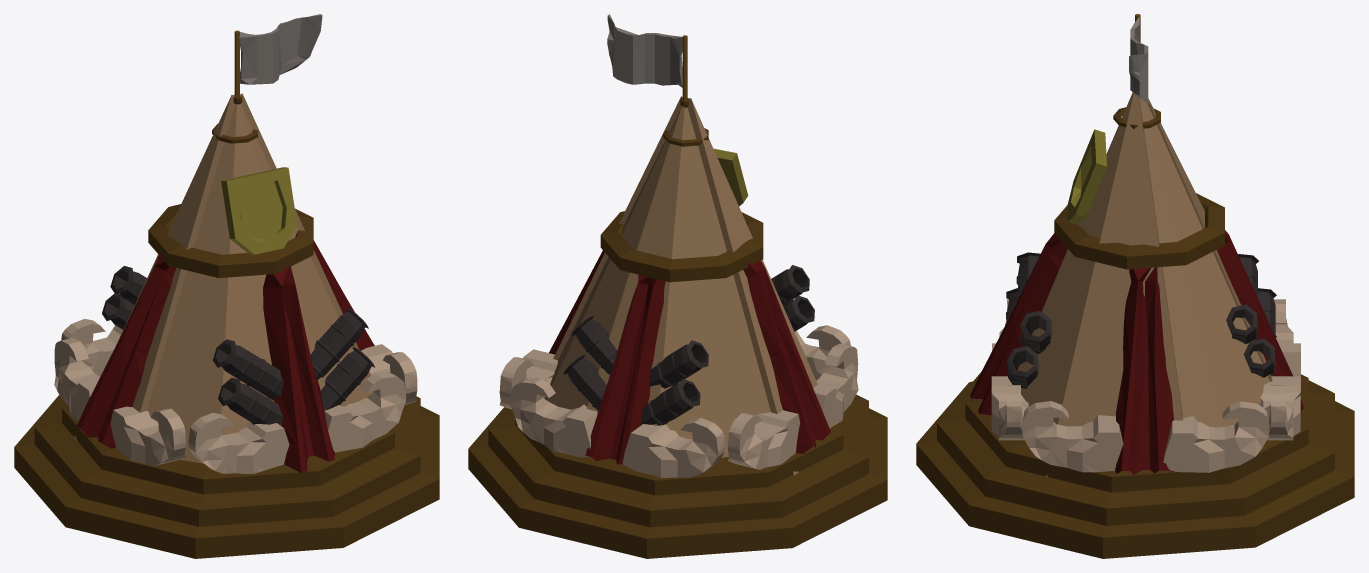
File: totem_español.fbx
3 renders of one model, left to right at view 1: azimuth 30°, elevation 25°; view 2: azimuth 150°, elevation 25°; view 3: azimuth 270°, elevation 25°, orthographic. The views are drawn at different scales.
Visible parts, largest first — view 1: base_espa, escalon_7, escalon_2, tela, escalon_3, tela2, escudo, escalon_4, cosito1, cosito, bandera, cosito7 (+10 smaller); view 2: base_espa, escalon_7, escalon_2, tela1, escalon_3, tela2, escalon_4, cosito2, cosito3, bandera, cosito6, cosito7 (+10 smaller); view 3: base_espa, escalon_7, escalon_2, tela3, escalon_3, cosito5, cosito4, escalon_4, tela, cosito3, tela1, escudo (+8 smaller).
Boxes of the visible parts, x1,y1,x2,y2 form: base_espa: [73, 93, 395, 463]; escalon_7: [14, 395, 439, 558]; escalon_2: [34, 396, 420, 526]; tela: [263, 265, 334, 473]; escalon_3: [62, 403, 394, 494]; tela2: [77, 253, 176, 448]; escudo: [221, 167, 297, 254]; escalon_4: [148, 204, 313, 277]; cosito1: [188, 412, 289, 473]; cosito: [324, 372, 406, 452]; bandera: [239, 14, 322, 84]; cosito7: [110, 406, 185, 466]; base_espa: [544, 96, 817, 475]; escalon_7: [468, 407, 887, 558]; escalon_2: [488, 394, 868, 527]; tela1: [585, 274, 665, 464]; escalon_3: [515, 417, 843, 495]; tela2: [743, 261, 830, 454]; escalon_4: [600, 211, 763, 282]; cosito2: [622, 418, 724, 477]; cosito3: [510, 377, 597, 457]; bandera: [607, 14, 682, 87]; cosito6: [727, 410, 800, 469]; cosito7: [813, 343, 858, 427]; base_espa: [1017, 92, 1272, 476]; escalon_7: [916, 381, 1354, 558]; escalon_2: [937, 372, 1334, 525]; tela3: [1115, 267, 1173, 474]; escalon_3: [965, 374, 1308, 492]; cosito5: [1163, 401, 1269, 472]; cosito4: [1022, 401, 1123, 472]; escalon_4: [1054, 193, 1224, 269]; tela: [970, 233, 1067, 415]; cosito3: [1260, 376, 1300, 440]; tela1: [1217, 230, 1303, 411]; escudo: [1067, 129, 1106, 224].
Size of the model in its own units: 14.53 by 16.46 by 14.31.
